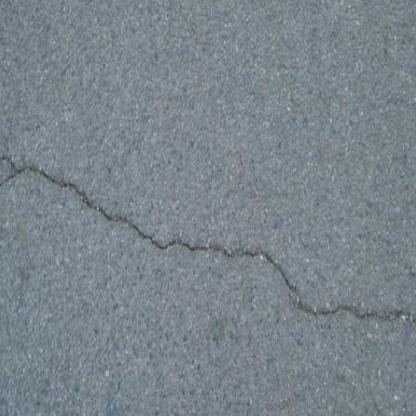Cracks: (0, 113, 416, 337)
